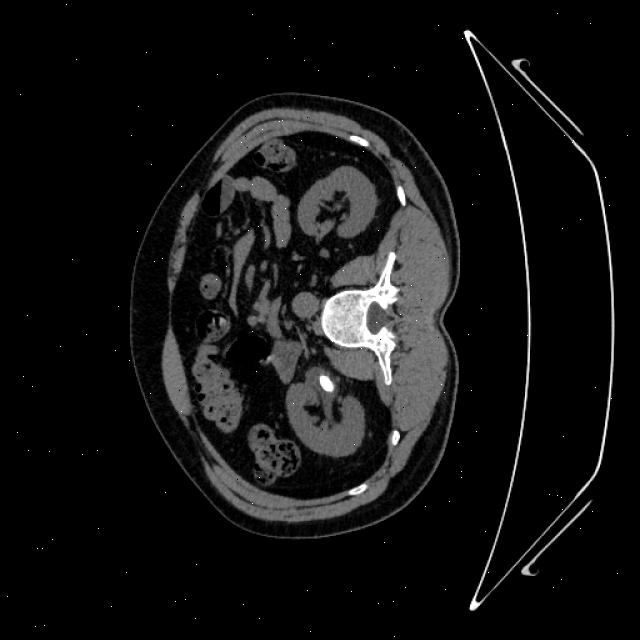kidneystone: (319, 374, 334, 391)
